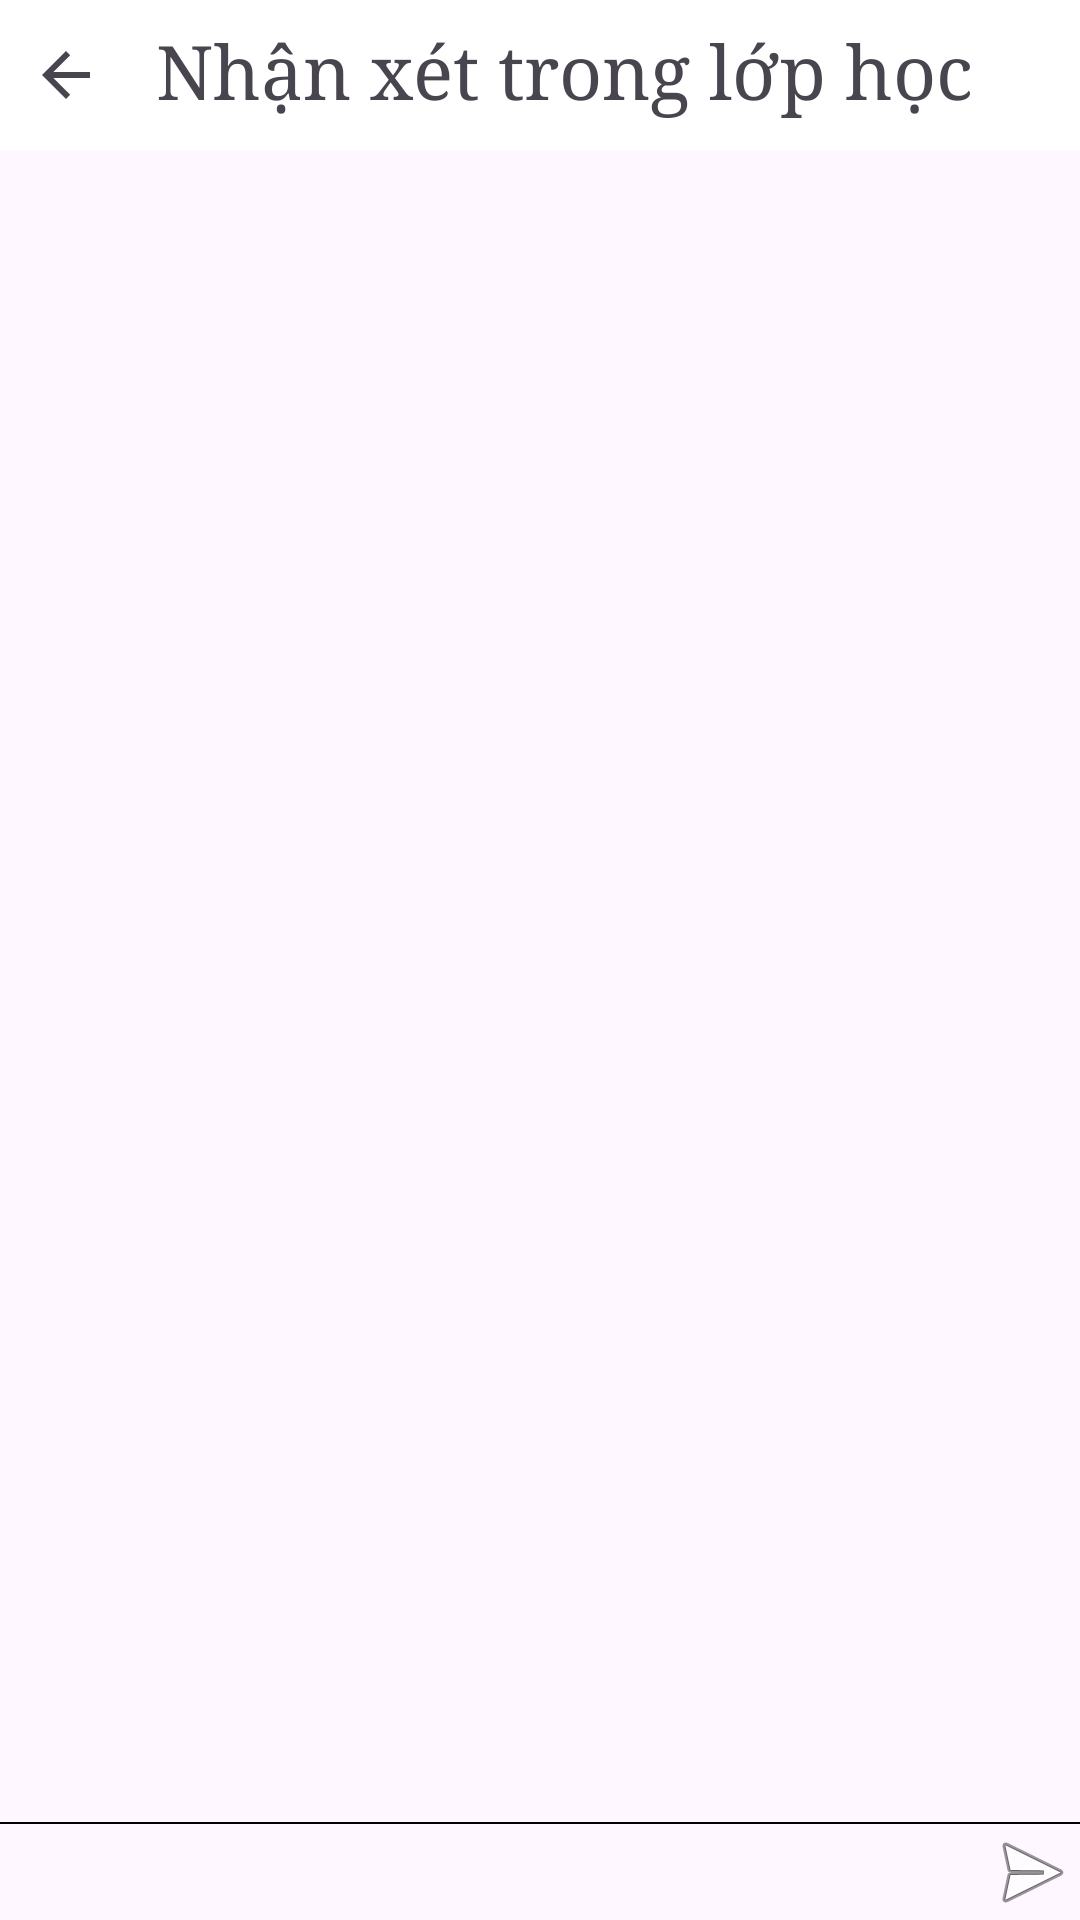

Screen size 1080px×1920px. Icon name, then its box in pixels as (x1, y1, x2, y2):
send: (1002, 1842, 1064, 1903)
